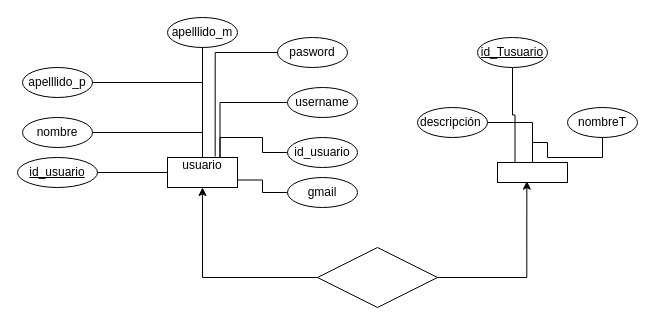
This 655x325 diagram has some shape labels left out. The centre of each missing label's shape, as x and y in pixels:
"tiene" belongs at point 377,277.
"Tipo user" belongs at point 532,172.
